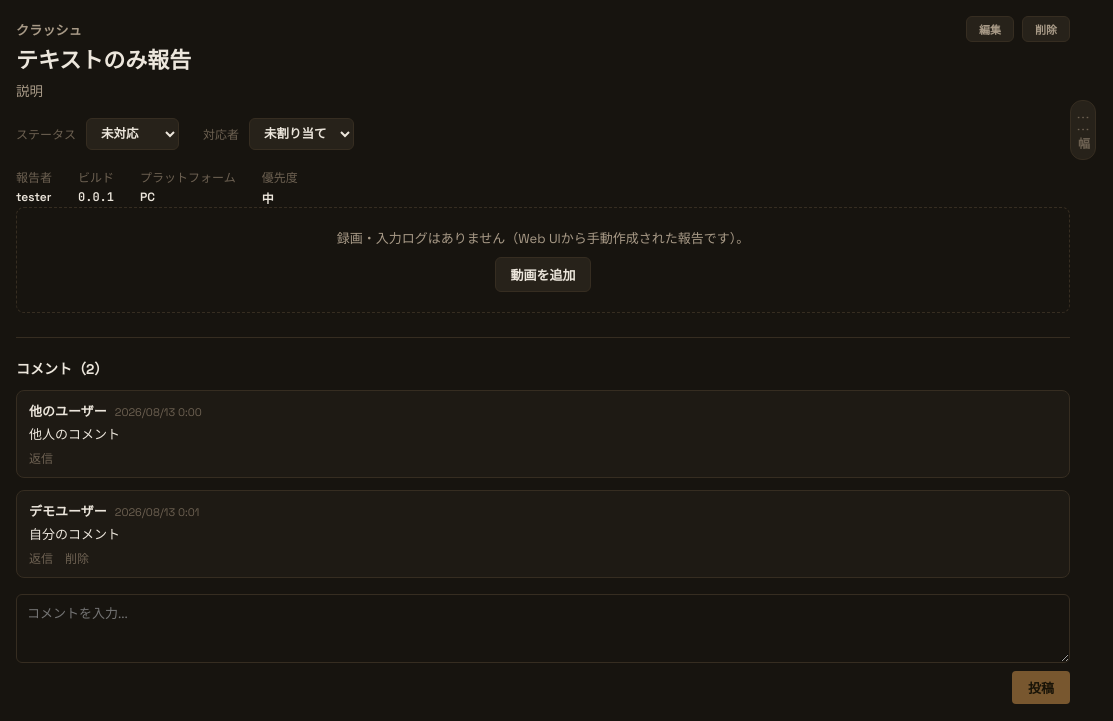
Test case: BugDetailPage - comment thread › only shows a delete button for the current user’s own comments, and removes it after confirming
Expected: the text "他人のコメント" is shown, [29,426,120,443]
Click the button "削除" below "自分のコメント" at (77, 558), box [65,549,89,567]
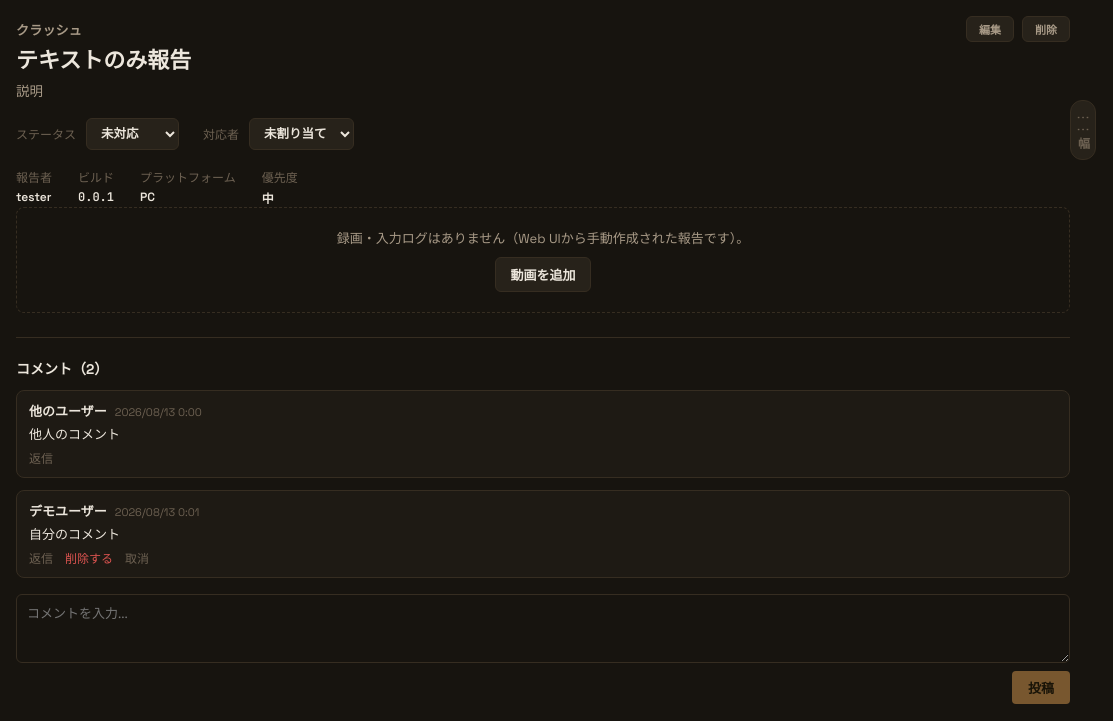
Click the button "削除する" at (89, 558), box [65,549,113,567]
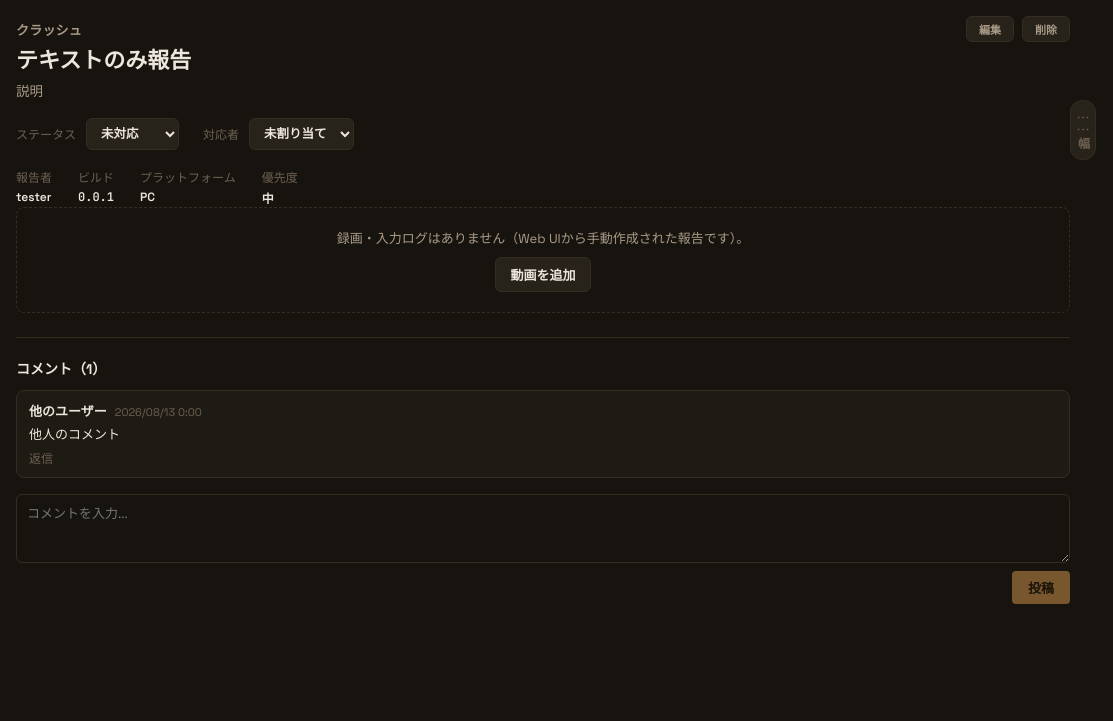
Expected: the text "他人のコメント" is shown, [29,426,120,443]
Expected: the text "自分のコメント" is gone
